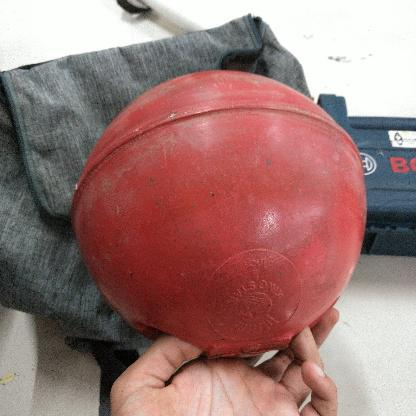red_buoy: (73, 67, 369, 354)
